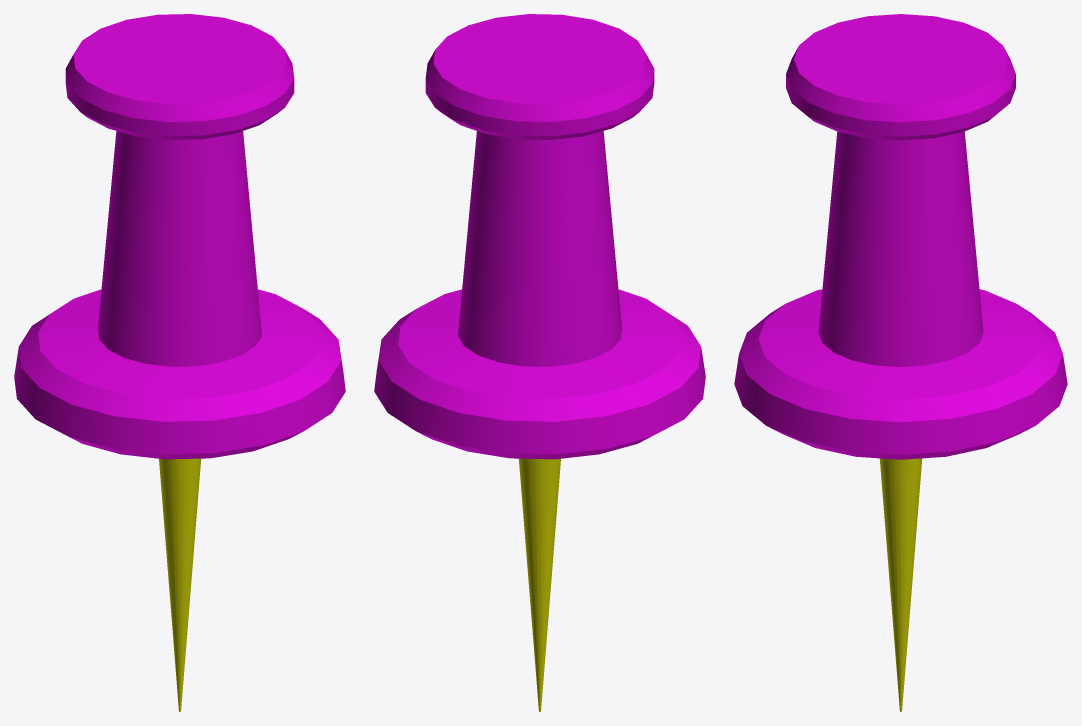
Rendered from Grapple_Hook.fbx.
3 renders of one model, left to right at view 1: azimuth 30°, elevation 25°; view 2: azimuth 150°, elevation 25°; view 3: azimuth 270°, elevation 25°, orthographic.
Parts seen in each view (by area): view 1: pCylinder1; view 2: pCylinder1; view 3: pCylinder1.
Boxes of the visible parts, left/top/right/bottom form: pCylinder1: left=14, top=14, right=345, bottom=711; pCylinder1: left=374, top=14, right=705, bottom=711; pCylinder1: left=734, top=14, right=1067, bottom=711.
Bounding box in the file's own units: 2.27 × 4.9 × 2.27.
